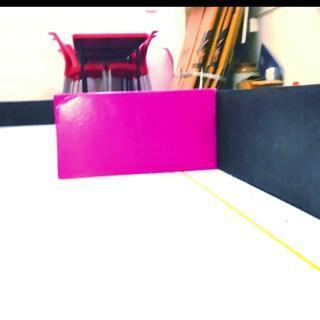xparking: (52, 95, 216, 179)
